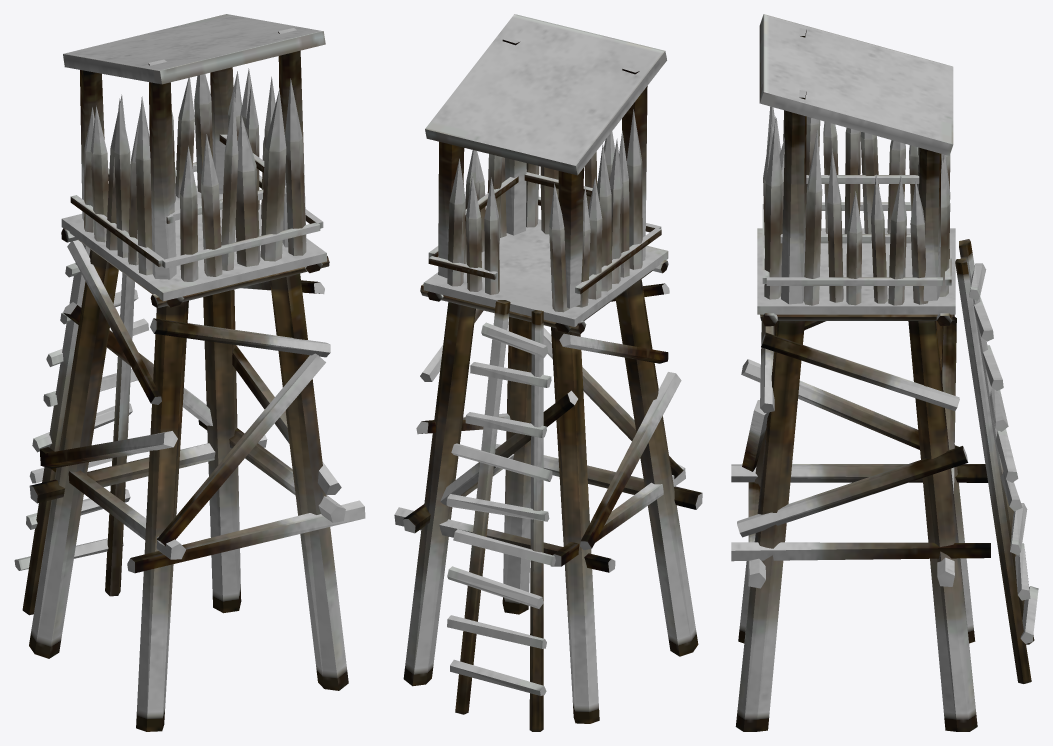
3 views of the same model, side by side, from view 1: azimuth 30°, elevation 25°; view 2: azimuth 150°, elevation 25°; view 3: azimuth 270°, elevation 25° (orthographic). The views are drawn at different scales.
Parts seen in each view (by area): view 1: Box01; view 2: Box01; view 3: Box01.
Boxes of the visible parts, x1,y1,x2,y2 form: Box01: (14, 14, 365, 731); Box01: (394, 14, 702, 731); Box01: (731, 14, 1038, 731).
Size of the model in its own units: 3.77 by 10.1 by 4.43.
